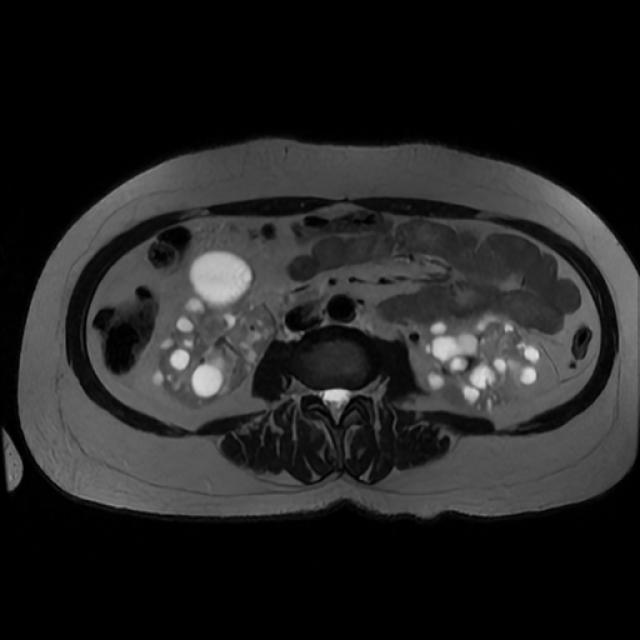sag: (153, 249, 271, 408)
sol: (423, 319, 543, 410)
